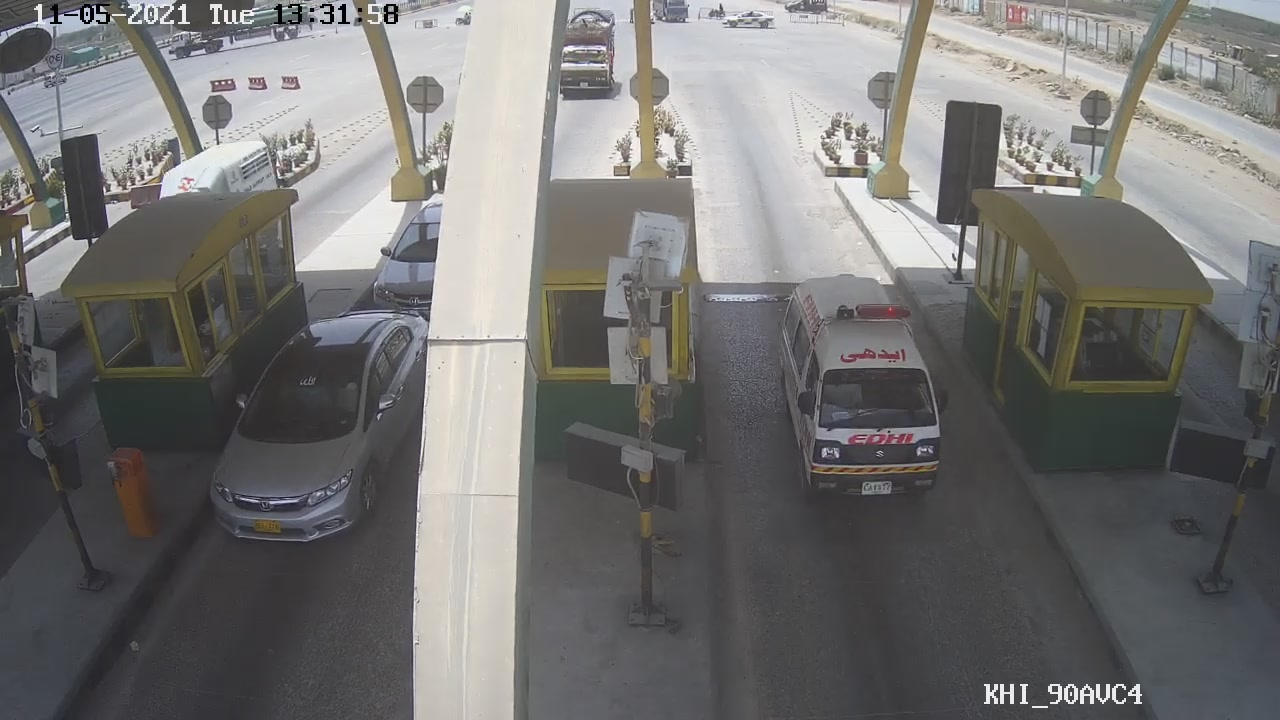F1: (774, 272, 945, 508)
